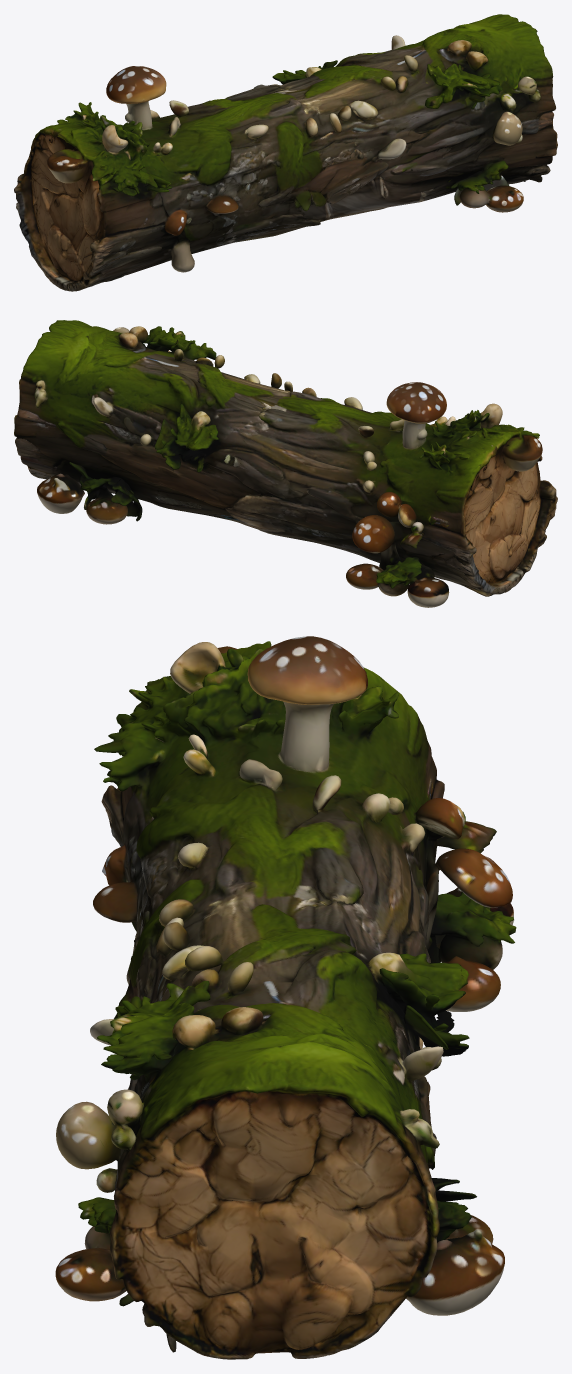
Rendered from nature-log-mossy.glb.
3 renders of one model, top to bottom at view 1: azimuth 30°, elevation 25°; view 2: azimuth 150°, elevation 25°; view 3: azimuth 270°, elevation 25°, orthographic. The views are drawn at different scales.
Parts seen in each view (by area): view 1: tripo_node_79e886df-ab59-4dd9-b52b-719a72ffe8ce; view 2: tripo_node_79e886df-ab59-4dd9-b52b-719a72ffe8ce; view 3: tripo_node_79e886df-ab59-4dd9-b52b-719a72ffe8ce.
Part boxes in pixels (<box>): tripo_node_79e886df-ab59-4dd9-b52b-719a72ffe8ce: <box>14,14,557,291</box>; tripo_node_79e886df-ab59-4dd9-b52b-719a72ffe8ce: <box>14,320,557,607</box>; tripo_node_79e886df-ab59-4dd9-b52b-719a72ffe8ce: <box>55,636,516,1359</box>.
Size of the model in its own units: 2.68 by 0.9999 by 1.11.
1 material, 1 textured.
